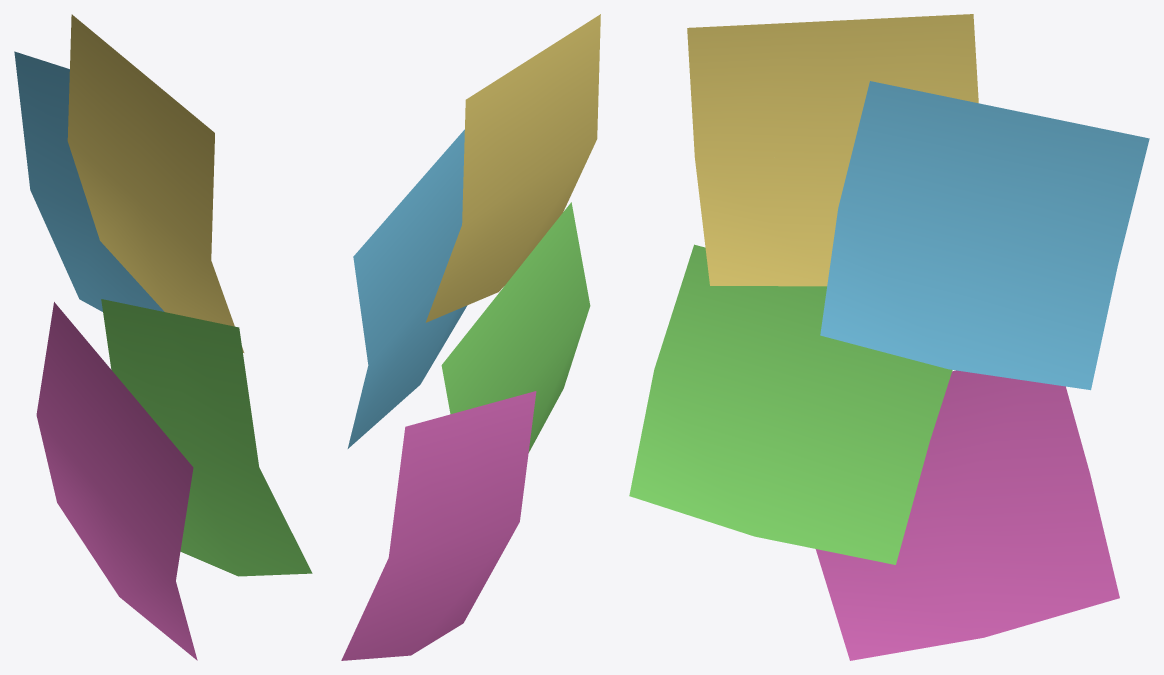
Rendered from Sticky Note Group.fbx.
3 renders of one model, left to right at view 1: azimuth 30°, elevation 25°; view 2: azimuth 150°, elevation 25°; view 3: azimuth 270°, elevation 25°, orthographic. The views are drawn at different scales.
Parts seen in each view (by area): view 1: Sticky_Note_Alone_8, Sticky_Note_Alone_5, Sticky_Note_Alone_6, Sticky_Note_Alone_7; view 2: Sticky_Note_Alone_5, Sticky_Note_Alone_8, Sticky_Note_Alone_7, Sticky_Note_Alone_6; view 3: Sticky_Note_Alone_7, Sticky_Note_Alone_6, Sticky_Note_Alone_5, Sticky_Note_Alone_8.
Boxes of the visible parts, left/top/right/bottom form: Sticky_Note_Alone_8: left=67, top=14, right=244, bottom=352; Sticky_Note_Alone_5: left=36, top=302, right=197, bottom=660; Sticky_Note_Alone_6: left=101, top=299, right=312, bottom=576; Sticky_Note_Alone_7: left=14, top=51, right=164, bottom=311; Sticky_Note_Alone_5: left=341, top=391, right=536, bottom=660; Sticky_Note_Alone_8: left=425, top=14, right=600, bottom=322; Sticky_Note_Alone_7: left=347, top=129, right=467, bottom=448; Sticky_Note_Alone_6: left=441, top=202, right=590, bottom=452; Sticky_Note_Alone_7: left=820, top=81, right=1149, bottom=390; Sticky_Note_Alone_6: left=629, top=244, right=952, bottom=564; Sticky_Note_Alone_5: left=815, top=370, right=1119, bottom=660; Sticky_Note_Alone_8: left=687, top=14, right=978, bottom=286.
Bounding box in the file's own units: 0.3987 × 3.27 × 2.5.
